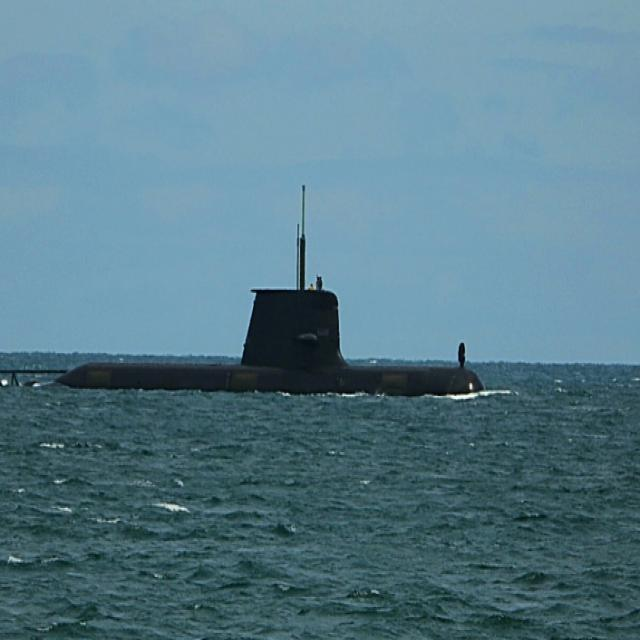submarine: (1, 177, 491, 390)
